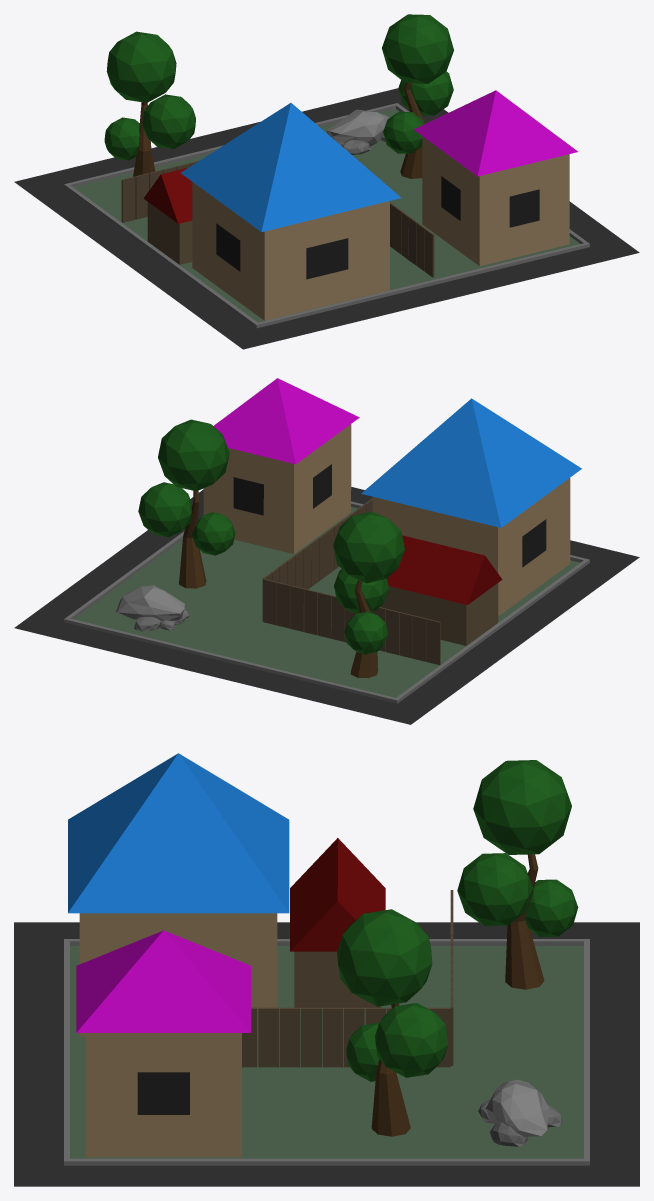
Rendered from city_1.fbx.
The picture shows the model from 3 angles, top to bottom: view 1: azimuth 30°, elevation 25°; view 2: azimuth 150°, elevation 25°; view 3: azimuth 270°, elevation 25°; orthographic projection. The views are drawn at different scales.
Visible parts, largest first — view 1: city_tile.001; view 2: city_tile.001; view 3: city_tile.001.
Part boxes in pixels (x1,y1,x2,y2): city_tile.001: (14,14,639,349); city_tile.001: (14,378,639,724); city_tile.001: (14,753,639,1186).
Bounding box in the file's own units: 1000 × 444 × 1000.
